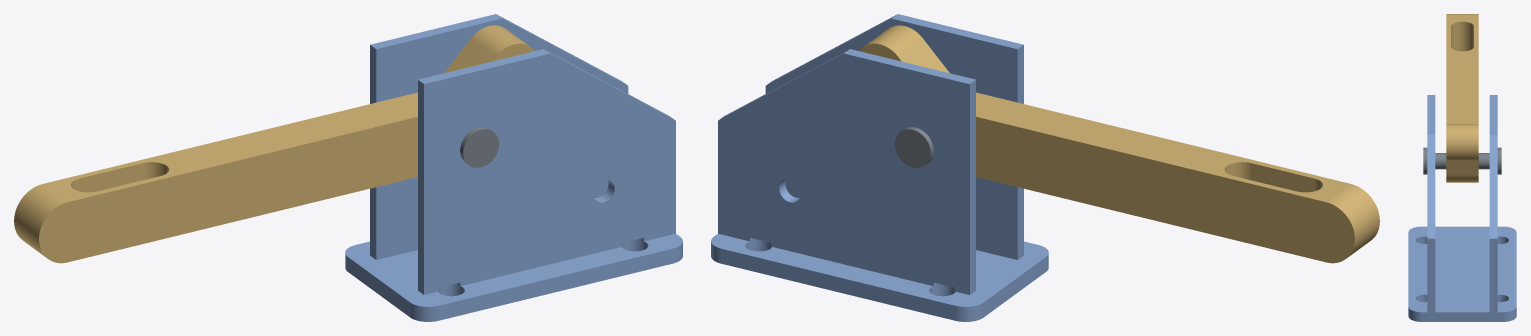
Rendered from step_19.glb.
3 renders of one model, left to right at view 1: azimuth 30°, elevation 25°; view 2: azimuth 150°, elevation 25°; view 3: azimuth 270°, elevation 25°, orthographic. The views are drawn at different scales.
Visible parts, largest first — view 1: part__base, part__clamp arm, part__pivot pin A; view 2: part__base, part__clamp arm, part__pivot pin A; view 3: part__base, part__clamp arm, part__pivot pin A.
Part boxes in pixels (bbox=[...]): part__base: bbox=[345, 14, 682, 321]; part__clamp arm: bbox=[14, 25, 534, 263]; part__pivot pin A: bbox=[460, 127, 499, 167]; part__base: bbox=[711, 14, 1048, 321]; part__clamp arm: bbox=[859, 25, 1379, 263]; part__pivot pin A: bbox=[894, 127, 933, 167]; part__base: bbox=[1408, 95, 1516, 321]; part__clamp arm: bbox=[1446, 14, 1478, 182]; part__pivot pin A: bbox=[1423, 147, 1501, 174].
Size of the model in its own units: 173 by 61 by 40.
